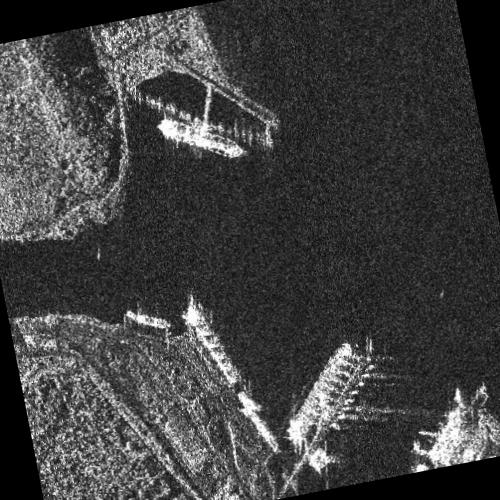ship: (285, 344, 355, 443), (184, 299, 242, 387), (157, 116, 246, 157), (239, 391, 278, 454), (125, 308, 170, 329)
